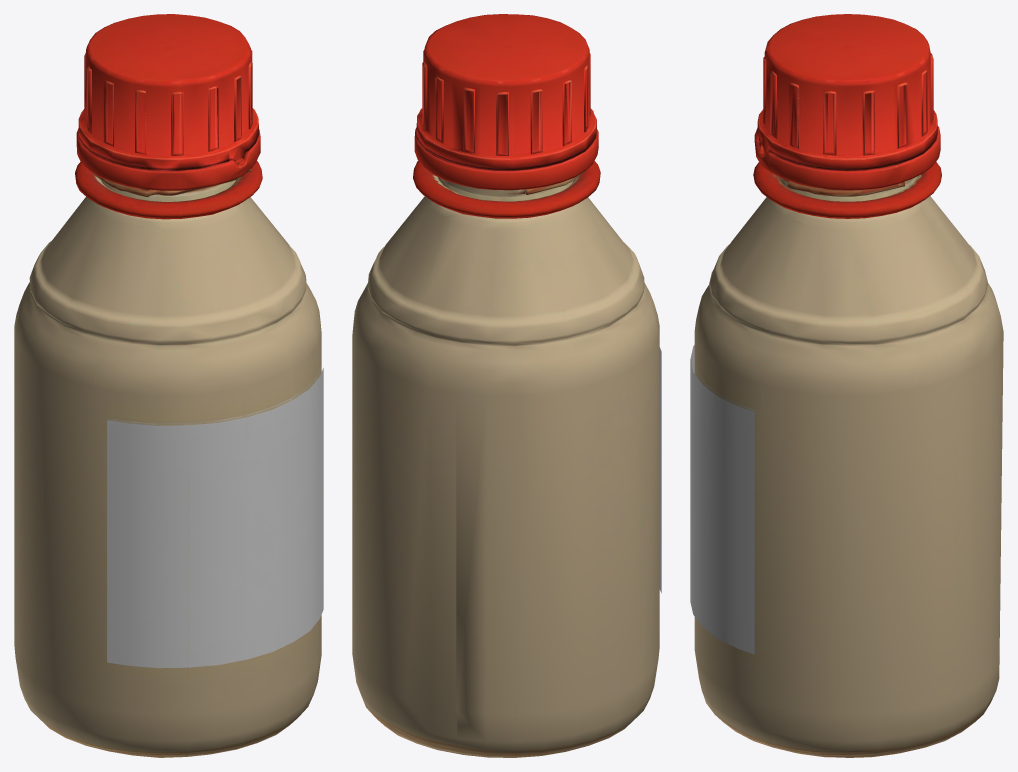
Rendered from 019f78ae-ade4-7e68-8bdd-a4af9605aefe.glb.
3 views of the same model, side by side, from view 1: azimuth 30°, elevation 25°; view 2: azimuth 150°, elevation 25°; view 3: azimuth 270°, elevation 25° (orthographic).
Parts seen in each view (by area): view 1: tripo_node_8800cfcd-3832-4543-a59a-62237342fd47; view 2: tripo_node_8800cfcd-3832-4543-a59a-62237342fd47; view 3: tripo_node_8800cfcd-3832-4543-a59a-62237342fd47.
Part boxes in pixels (x1,y1,x2,y2): tripo_node_8800cfcd-3832-4543-a59a-62237342fd47: [14, 14, 323, 757]; tripo_node_8800cfcd-3832-4543-a59a-62237342fd47: [352, 14, 661, 757]; tripo_node_8800cfcd-3832-4543-a59a-62237342fd47: [690, 14, 1003, 757].
Size of the model in its own units: 0.4199 by 0.998 by 0.4277.
1 material, 1 textured.
